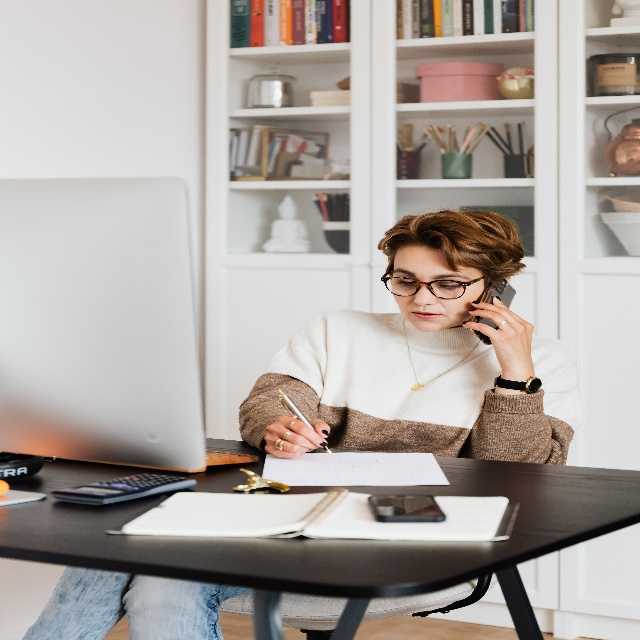Gafas: (380, 265, 486, 302)
Sin_guantes: (461, 296, 536, 372), (264, 414, 330, 459)
